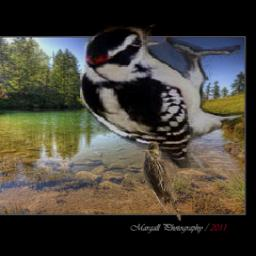Sparrow: (143, 141, 182, 221)
Woodpecker: (80, 22, 244, 169)
